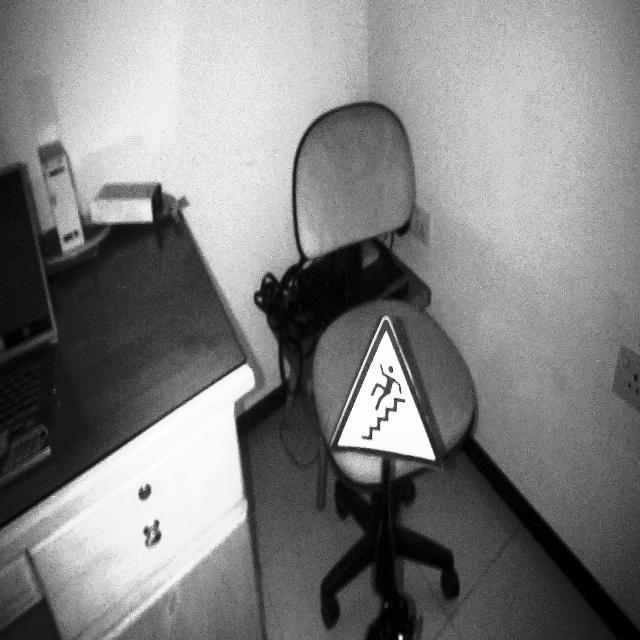Sign: (330, 314, 445, 474)
